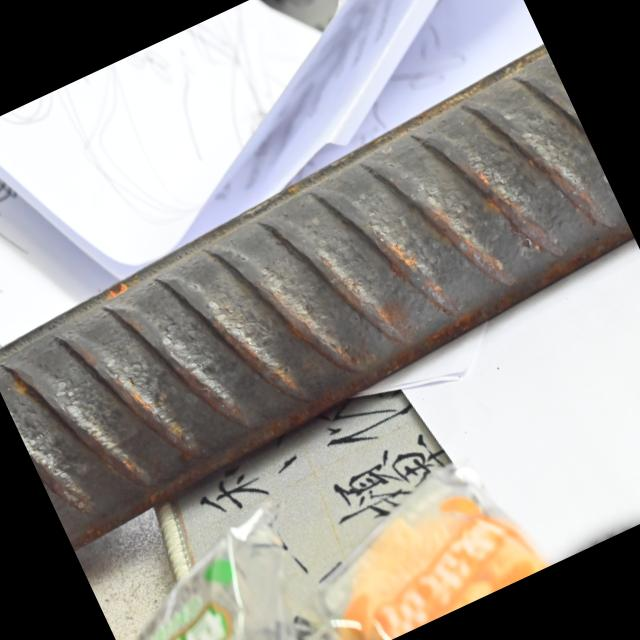ribbed bar: (0, 40, 640, 554)
